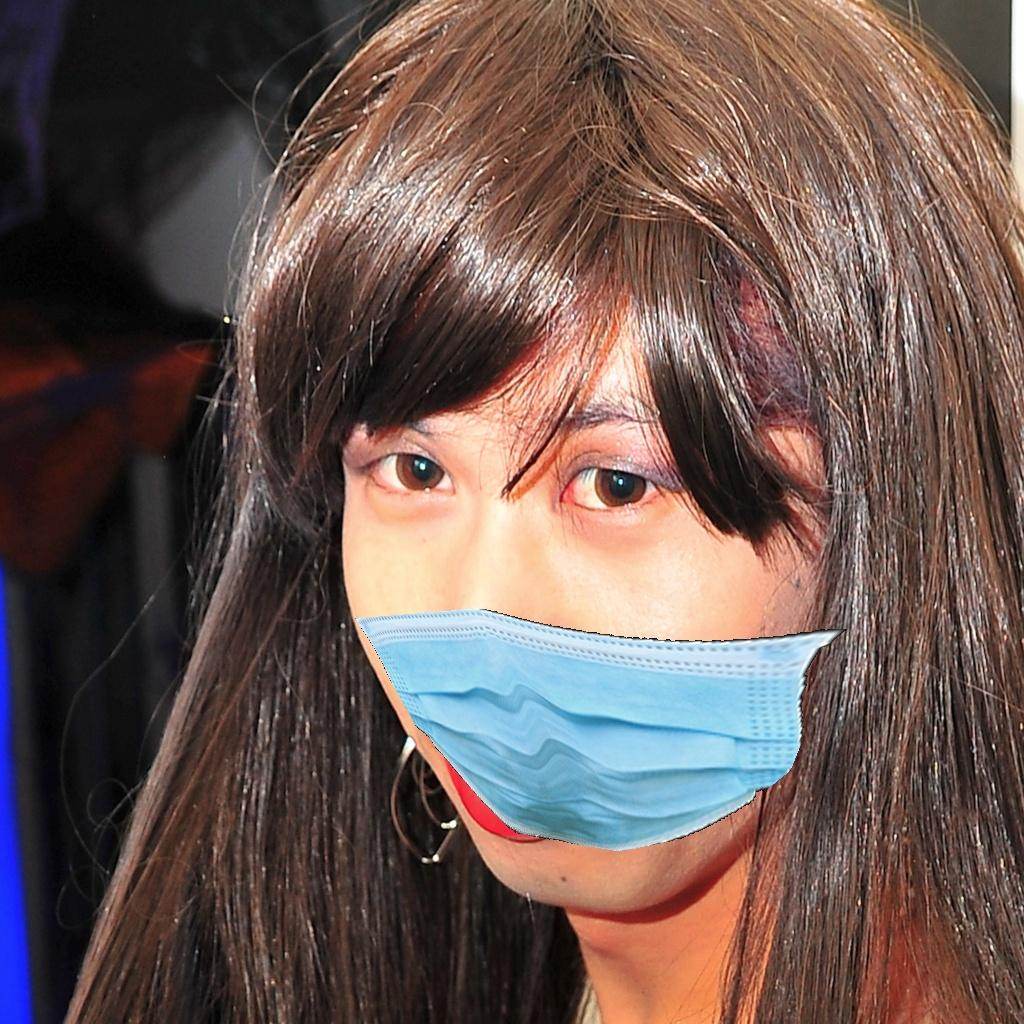Com Máscara: (273, 303, 877, 921)
